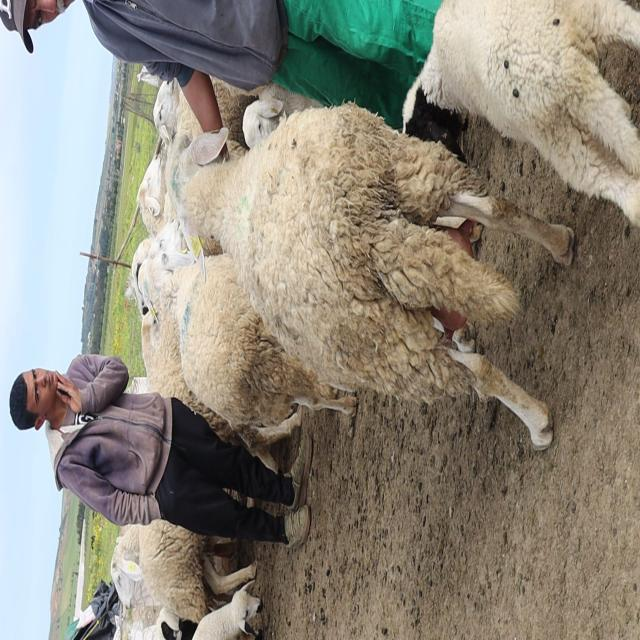Score_2: (166, 103, 574, 449)
